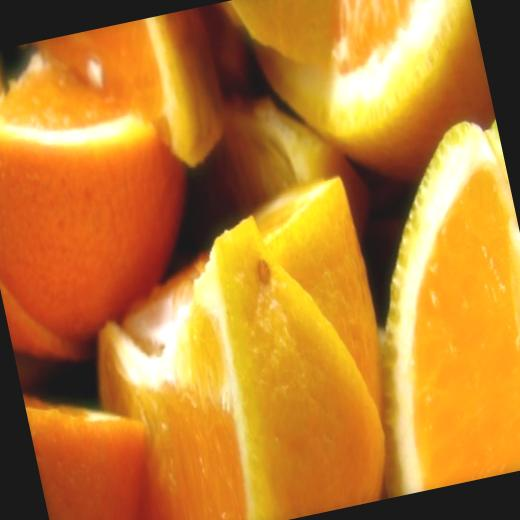Grape: (71, 198, 393, 520), (104, 176, 396, 457), (335, 110, 520, 481), (0, 28, 208, 355), (242, 0, 500, 190), (34, 8, 228, 188), (22, 367, 166, 520), (225, 0, 339, 73)
